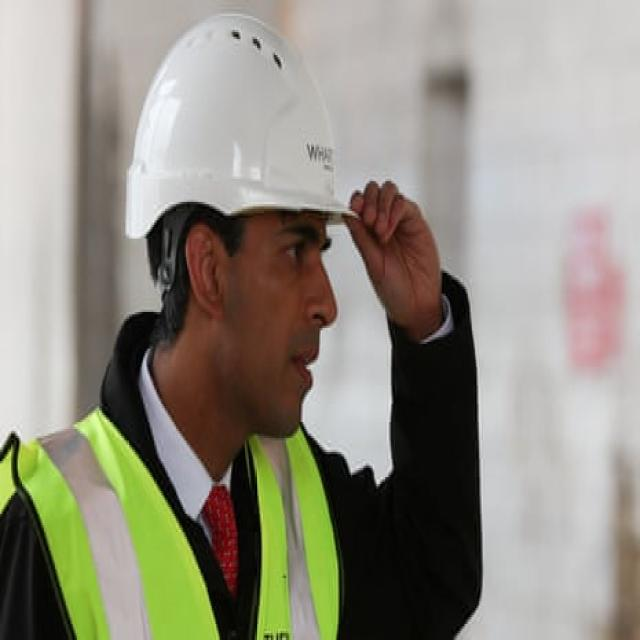helmet: (119, 7, 362, 257)
no-goggles: (192, 201, 366, 295)
vest: (1, 390, 359, 640)
